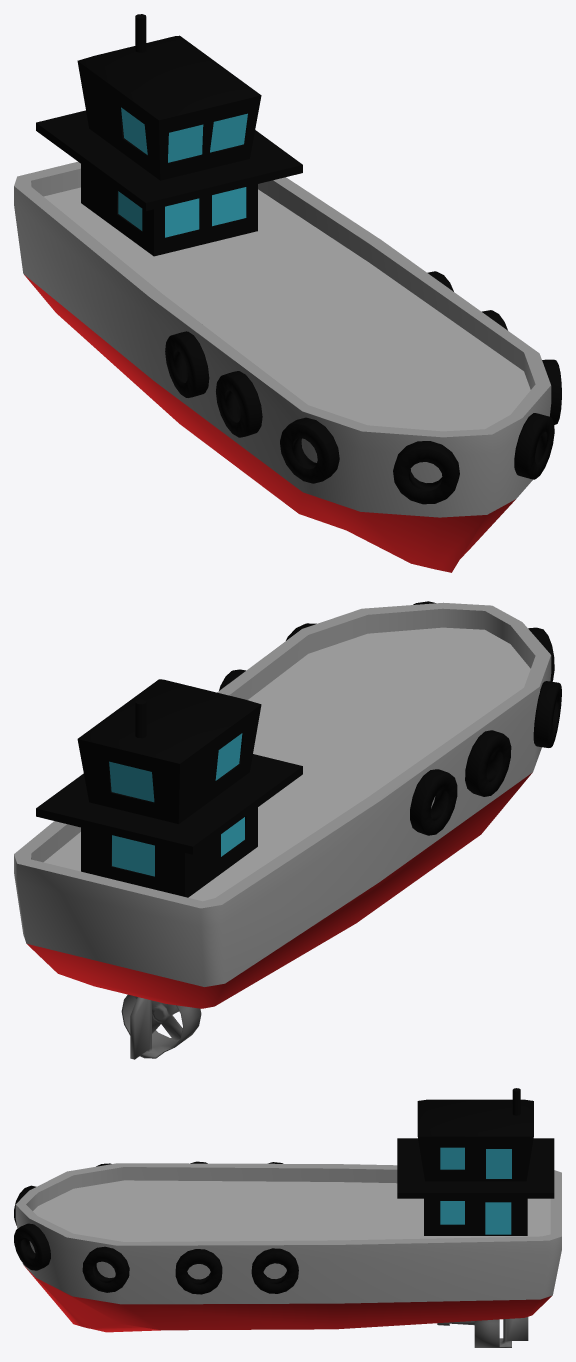
File: ship.fbx
3 views of the same model, one above another, from view 1: azimuth 30°, elevation 25°; view 2: azimuth 150°, elevation 25°; view 3: azimuth 270°, elevation 25° (orthographic). The views are drawn at different scales.
Parts seen in each view (by area): view 1: gemi; view 2: gemi; view 3: gemi.
Part boxes in pixels (box(x1,y1,x2,y2)): gemi: box(14, 14, 561, 572); gemi: box(14, 601, 561, 1059); gemi: box(14, 1088, 561, 1347).
Bounding box in the file's own units: 269 × 662 × 341.
